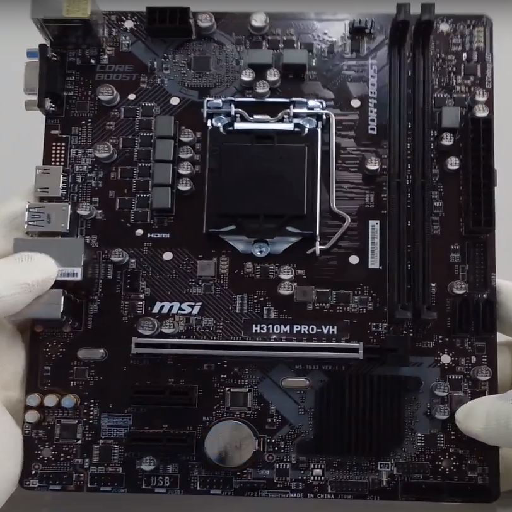CPU: (199, 96, 335, 256)
GPU: (128, 332, 410, 367)
MOTHERBOARD: (16, 6, 501, 500)
RAM: (386, 2, 440, 333)
